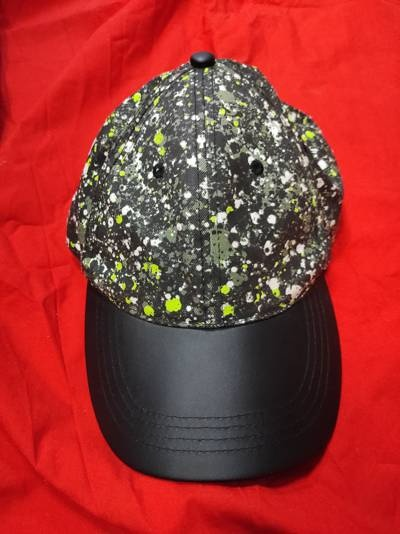Hat: (48, 39, 361, 513)
